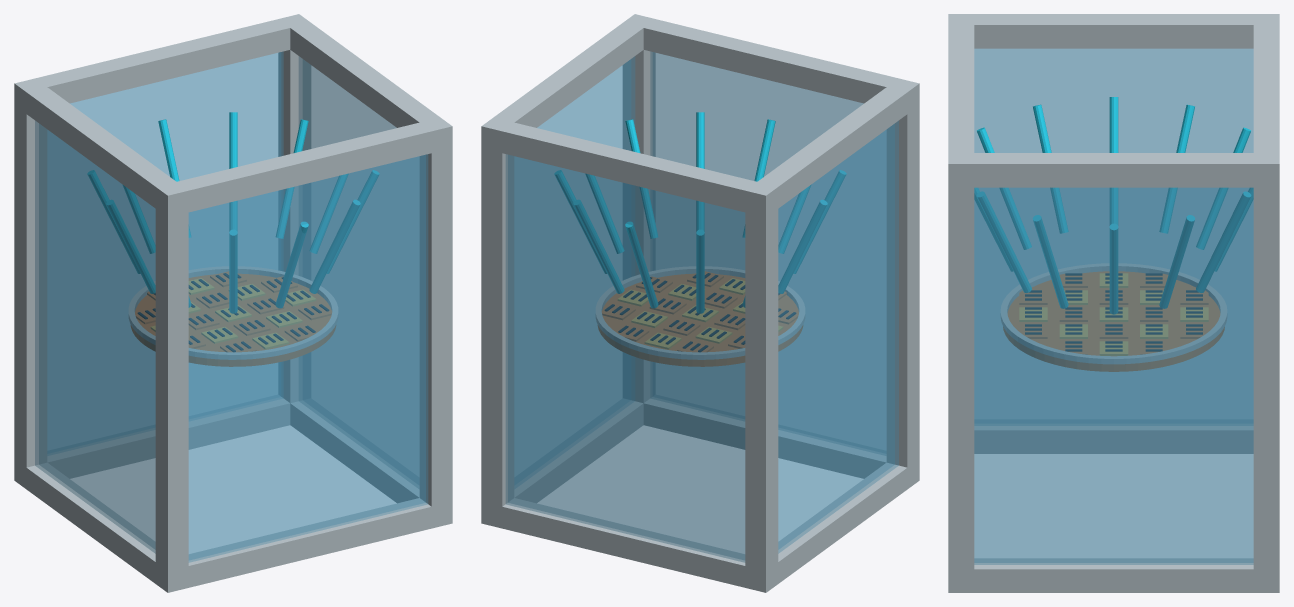
The model's file is 49_L76_PostPlatingWaferRinseChamber.fbx.
The picture shows the model from 3 angles, left to right: view 1: azimuth 30°, elevation 25°; view 2: azimuth 150°, elevation 25°; view 3: azimuth 270°, elevation 25°; orthographic projection. The views are drawn at different scales.
Parts seen in each view (by area): view 1: PostPlatingWaferRinseChamber, PostPlatingWaferRinseChamber_Part_0016, PostPlatingWaferRinseChamber_Part_0017, PostPlatingWaferRinseChamber_Part_0104, PostPlatingWaferRinseChamber_Part_0108, PostPlatingWaferRinseChamber_Part_0112, PostPlatingWaferRinseChamber_Part_0105, PostPlatingWaferRinseChamber_Part_0106, PostPlatingWaferRinseChamber_Part_0113, PostPlatingWaferRinseChamber_Part_0102, PostPlatingWaferRinseChamber_Part_0110, PostPlatingWaferRinseChamber_Part_0111; view 2: PostPlatingWaferRinseChamber, PostPlatingWaferRinseChamber_Part_0016, PostPlatingWaferRinseChamber_Part_0017, PostPlatingWaferRinseChamber_Part_0112, PostPlatingWaferRinseChamber_Part_0108, PostPlatingWaferRinseChamber_Part_0104, PostPlatingWaferRinseChamber_Part_0111, PostPlatingWaferRinseChamber_Part_0110, PostPlatingWaferRinseChamber_Part_0103, PostPlatingWaferRinseChamber_Part_0102, PostPlatingWaferRinseChamber_Part_0106, PostPlatingWaferRinseChamber_Part_0105; view 3: PostPlatingWaferRinseChamber, PostPlatingWaferRinseChamber_Part_0016, PostPlatingWaferRinseChamber_Part_0017, PostPlatingWaferRinseChamber_Part_0104, PostPlatingWaferRinseChamber_Part_0112, PostPlatingWaferRinseChamber_Part_0107, PostPlatingWaferRinseChamber_Part_0109, PostPlatingWaferRinseChamber_Part_0103, PostPlatingWaferRinseChamber_Part_0113, PostPlatingWaferRinseChamber_Part_0108, PostPlatingWaferRinseChamber_Part_0106, PostPlatingWaferRinseChamber_Part_0110 (+1 smaller).
Part boxes in pixels (x1,y1,x2,y2): PostPlatingWaferRinseChamber: [14, 14, 452, 592]; PostPlatingWaferRinseChamber_Part_0016: [131, 274, 335, 366]; PostPlatingWaferRinseChamber_Part_0017: [129, 266, 337, 359]; PostPlatingWaferRinseChamber_Part_0104: [309, 200, 360, 293]; PostPlatingWaferRinseChamber_Part_0108: [106, 200, 155, 293]; PostPlatingWaferRinseChamber_Part_0112: [229, 112, 237, 231]; PostPlatingWaferRinseChamber_Part_0105: [276, 222, 308, 307]; PostPlatingWaferRinseChamber_Part_0106: [229, 229, 237, 313]; PostPlatingWaferRinseChamber_Part_0113: [276, 119, 308, 238]; PostPlatingWaferRinseChamber_Part_0102: [309, 174, 348, 253]; PostPlatingWaferRinseChamber_Part_0110: [123, 185, 155, 253]; PostPlatingWaferRinseChamber_Part_0111: [158, 119, 190, 237]; PostPlatingWaferRinseChamber: [481, 14, 919, 592]; PostPlatingWaferRinseChamber_Part_0016: [598, 274, 802, 366]; PostPlatingWaferRinseChamber_Part_0017: [596, 266, 804, 359]; PostPlatingWaferRinseChamber_Part_0112: [573, 200, 624, 293]; PostPlatingWaferRinseChamber_Part_0108: [778, 200, 827, 293]; PostPlatingWaferRinseChamber_Part_0104: [696, 112, 704, 231]; PostPlatingWaferRinseChamber_Part_0111: [625, 222, 657, 307]; PostPlatingWaferRinseChamber_Part_0110: [696, 229, 704, 313]; PostPlatingWaferRinseChamber_Part_0103: [625, 119, 657, 238]; PostPlatingWaferRinseChamber_Part_0102: [585, 174, 624, 253]; PostPlatingWaferRinseChamber_Part_0106: [778, 185, 810, 253]; PostPlatingWaferRinseChamber_Part_0105: [743, 119, 775, 237]; PostPlatingWaferRinseChamber: [948, 14, 1279, 592]; PostPlatingWaferRinseChamber_Part_0016: [1003, 271, 1224, 371]; PostPlatingWaferRinseChamber_Part_0017: [1001, 263, 1226, 363]; PostPlatingWaferRinseChamber_Part_0104: [977, 191, 1031, 292]; PostPlatingWaferRinseChamber_Part_0112: [1196, 191, 1250, 292]; PostPlatingWaferRinseChamber_Part_0107: [1033, 104, 1068, 233]; PostPlatingWaferRinseChamber_Part_0109: [1159, 104, 1194, 233]; PostPlatingWaferRinseChamber_Part_0103: [1033, 215, 1068, 308]; PostPlatingWaferRinseChamber_Part_0113: [1159, 215, 1194, 308]; PostPlatingWaferRinseChamber_Part_0108: [1109, 97, 1118, 224]; PostPlatingWaferRinseChamber_Part_0106: [977, 127, 1031, 249]; PostPlatingWaferRinseChamber_Part_0110: [1196, 127, 1250, 249].
Bounding box in the file's own units: 150 × 200 × 140.
